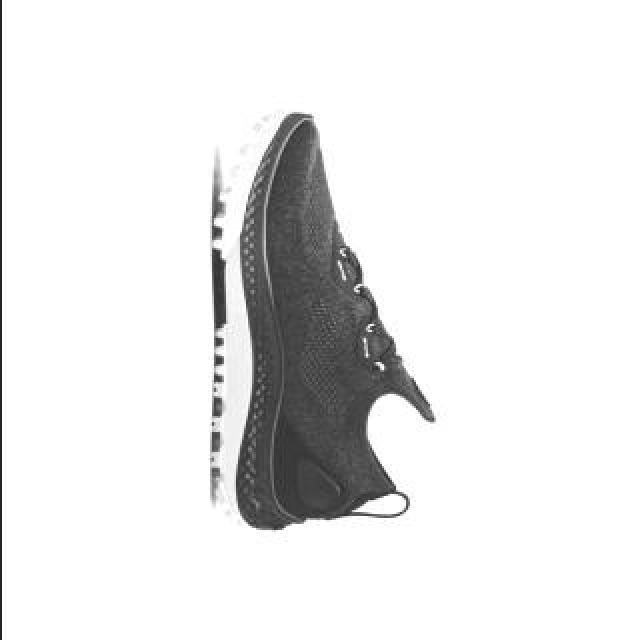shoe: (208, 108, 436, 532)
